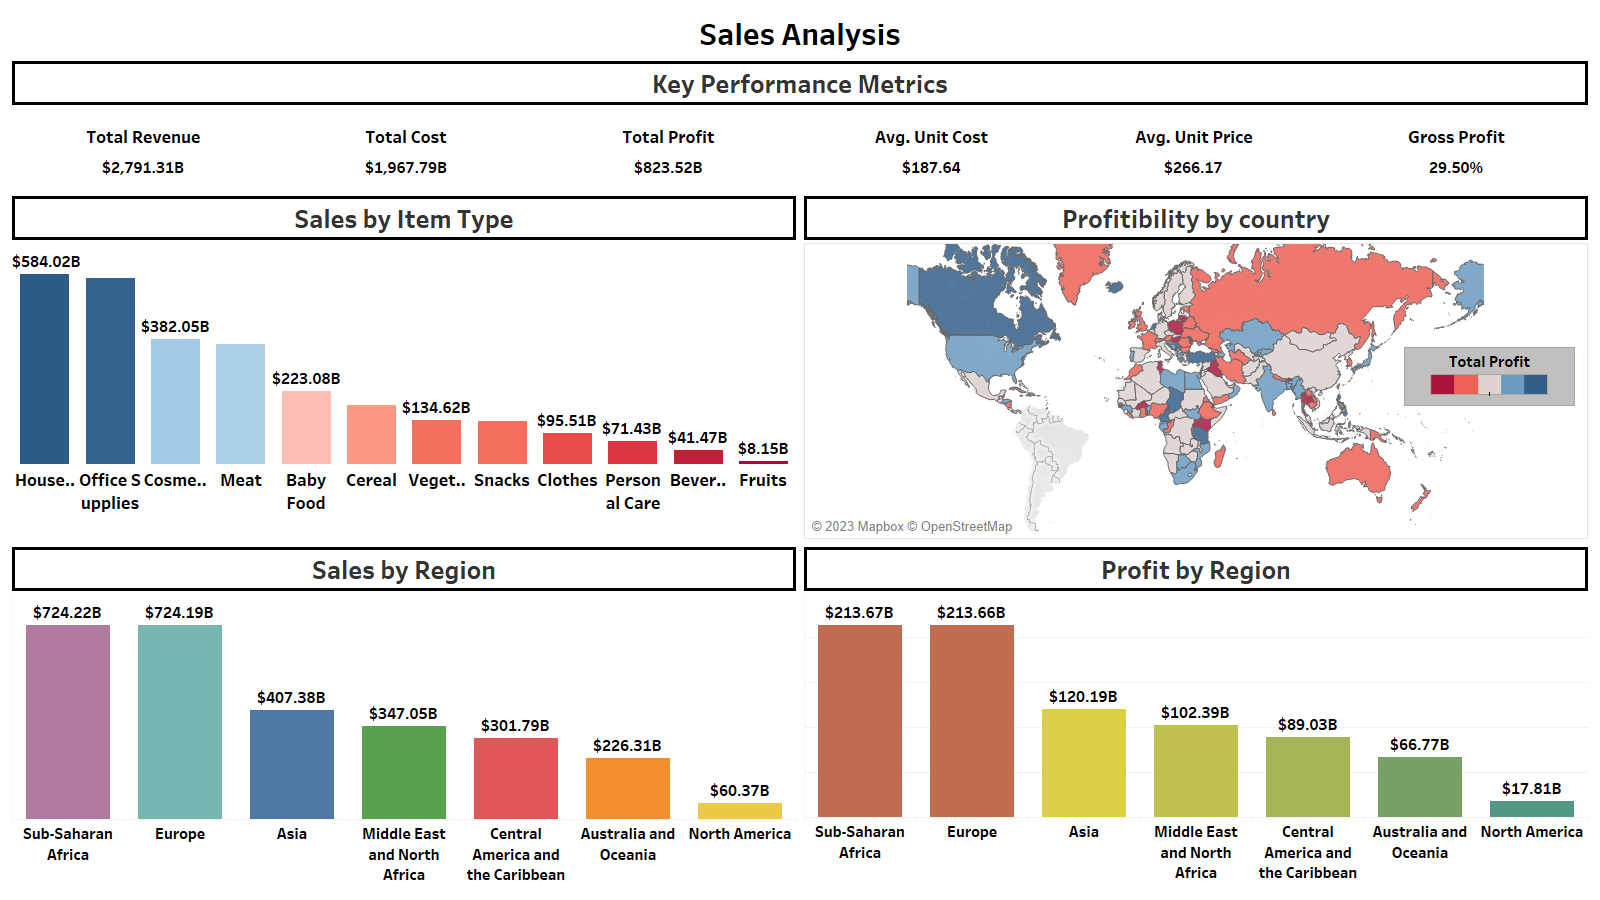

What the dashboard file says about the page in this screenshot:
{"tool":"tableau","page":{"name":"Dashboard 1","canvas":[1600,900],"ordinal":0},"visuals":[{"type":"title","box":[8,8,1584,49]},{"type":"worksheet","title":"Key Performance Metrics","mark":"Automatic","box":[8,57,1584,134.8]},{"type":"worksheet","title":"Sales by Item Type","mark":"Automatic","rows":["Total_Revenue"],"cols":["Item_Type"],"box":[8,191.8,792,351.2]},{"type":"worksheet","title":"Profitibility by country","mark":"Automatic","box":[800,191.8,792,351.2]},{"type":"legend","title":"Profitibility by country","param":"[federated.1kw5q9p12gw3ta1cqn5fs0vdjmi1].[sum:Total_Profit:qk]","box":[1404,347,171,59]},{"type":"worksheet","title":"Sales by Region","mark":"Automatic","rows":["Total_Revenue"],"cols":["Region"],"box":[8,543,792,349]},{"type":"worksheet","title":"Profit by Region","mark":"Automatic","rows":["Total_Profit"],"cols":["Region"],"box":[800,543,792,349]}]}

Visuals, with their boxes in screenshot pixels (x1, y1, x2, y2), scaled from the page's 1600x900 canvas onto the 1600x900 screenshot:
title: bbox=[8, 8, 1592, 57]
"Key Performance Metrics" worksheet: bbox=[8, 57, 1592, 192]
"Sales by Item Type" worksheet: bbox=[8, 192, 800, 543]
"Profitibility by country" worksheet: bbox=[800, 192, 1592, 543]
"Profitibility by country" legend: bbox=[1404, 347, 1575, 406]
"Sales by Region" worksheet: bbox=[8, 543, 800, 892]
"Profit by Region" worksheet: bbox=[800, 543, 1592, 892]
